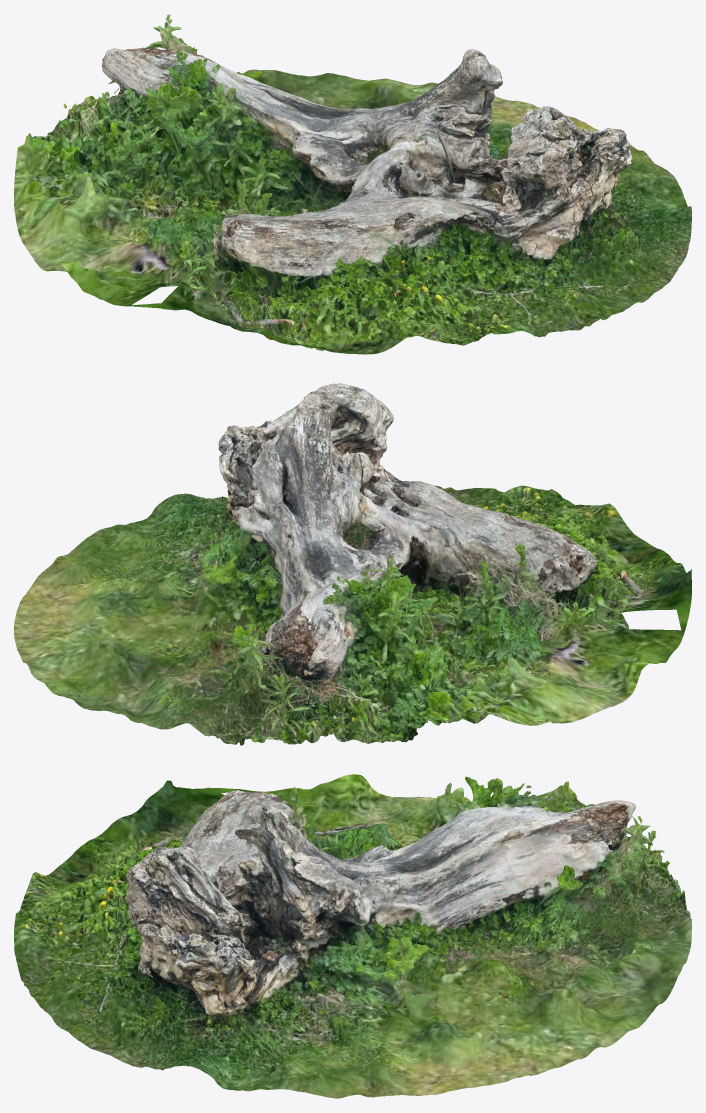
The model's file is batu.glb.
3 views of the same model, one above another, from view 1: azimuth 30°, elevation 25°; view 2: azimuth 150°, elevation 25°; view 3: azimuth 270°, elevation 25° (orthographic).
Parts seen in each view (by area): view 1: Object_4, Object_5, Object_6; view 2: Object_4, Object_5, Object_6; view 3: Object_4, Object_5, Object_6.
Boxes of the visible parts, left/top/right/bottom form: Object_4: left=14, top=48, right=687, bottom=353; Object_5: left=14, top=14, right=691, bottom=354; Object_6: left=14, top=25, right=677, bottom=349; Object_4: left=14, top=383, right=691, bottom=745; Object_5: left=16, top=399, right=691, bottom=744; Object_6: left=45, top=417, right=677, bottom=744; Object_4: left=14, top=774, right=691, bottom=1098; Object_5: left=15, top=780, right=691, bottom=1097; Object_6: left=21, top=776, right=685, bottom=1094.
Size of the model in its own units: 3.32 by 1.03 by 3.32.
Materials: 1 (1 with a texture image).
